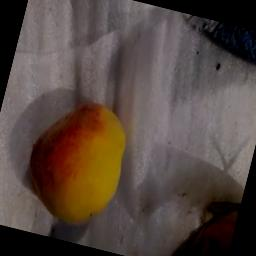Peach Unripe: (5, 80, 153, 243)
